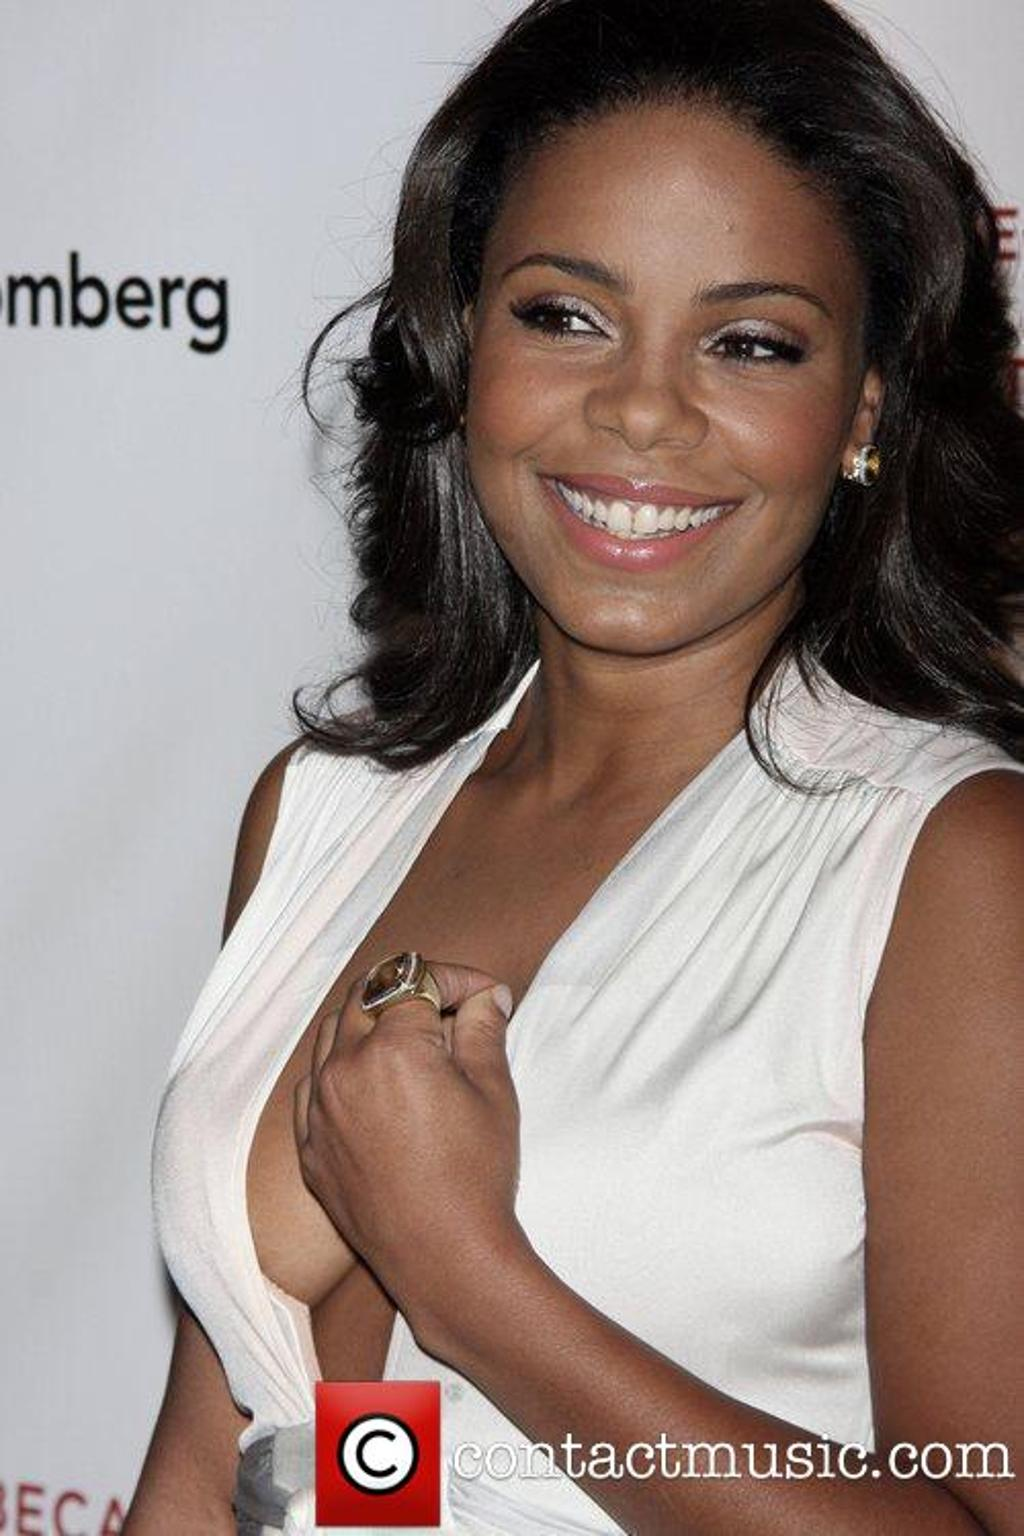face: (468, 105, 864, 649)
